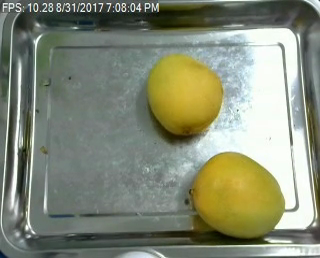Mango: (190, 152, 285, 240), (146, 54, 222, 135)
